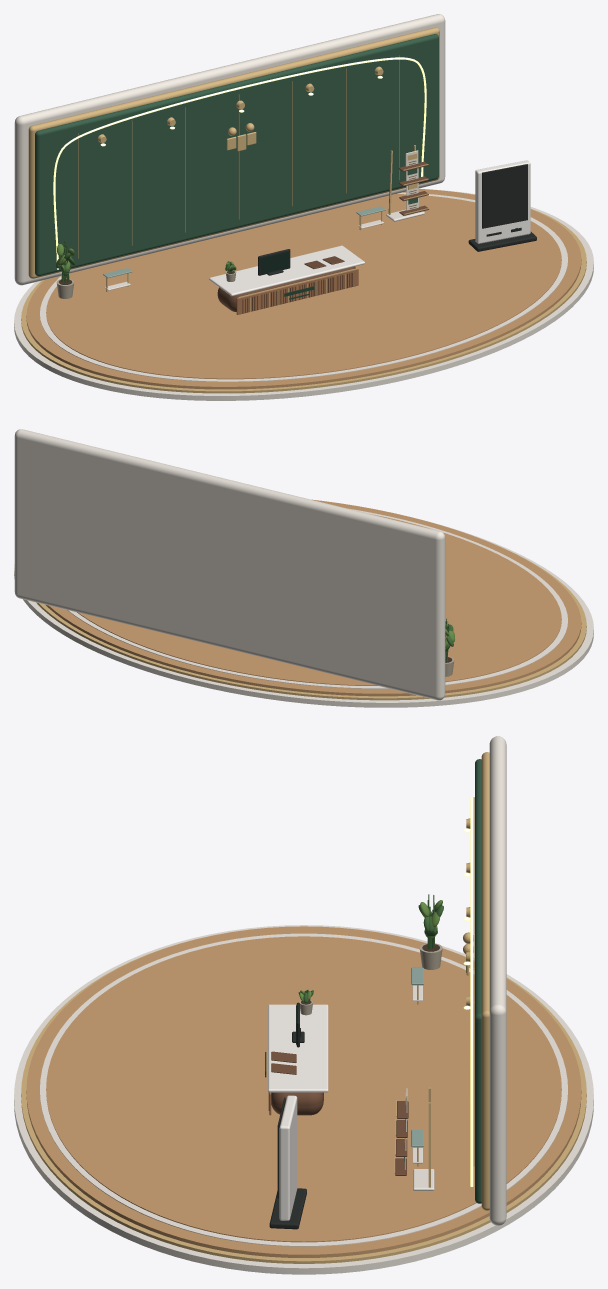
File: recruitment-center.glb
3 renders of one model, top to bottom at view 1: azimuth 30°, elevation 25°; view 2: azimuth 150°, elevation 25°; view 3: azimuth 270°, elevation 25°, orthographic. The views are drawn at different scales.
Visible parts, largest first — view 1: Platform_Oak_Center, Backwall_Green_Inset, Backwall_Outer_Frame, Walkable_Oak_Platform, Ground_RecruitmentCenter, Backwall_Brass_Reveal, Platform_Champagne_Rim, Platform_Stone_Inlay, Desk_Stone_Top, Kiosk_Screen_Frame, Desk_Front_Inset, Backwall_Warm_LED_Arch (+3 smaller); view 2: Backwall_Outer_Frame, Platform_Oak_Center, Walkable_Oak_Platform, Ground_RecruitmentCenter, Platform_Champagne_Rim, Platform_Stone_Inlay; view 3: Platform_Oak_Center, Walkable_Oak_Platform, Ground_RecruitmentCenter, Backwall_Outer_Frame, Platform_Stone_Inlay, Platform_Champagne_Rim, Desk_Stone_Top, Backwall_Brass_Reveal, Backwall_Green_Inset, Kiosk_Body, Backwall_Warm_LED_Arch, Desk_Body (+1 smaller).
Part boxes in pixels (left/top/right/bottom): Platform_Oak_Center: left=46, top=194, right=561, bottom=379; Backwall_Green_Inset: left=35, top=34, right=438, bottom=276; Backwall_Outer_Frame: left=14, top=14, right=445, bottom=285; Walkable_Oak_Platform: left=26, top=189, right=581, bottom=389; Ground_RecruitmentCenter: left=14, top=188, right=593, bottom=400; Backwall_Brass_Reveal: left=28, top=27, right=439, bottom=278; Platform_Champagne_Rim: left=21, top=209, right=586, bottom=393; Platform_Stone_Inlay: left=40, top=192, right=567, bottom=381; Desk_Stone_Top: left=209, top=245, right=364, bottom=296; Kiosk_Screen_Frame: left=482, top=164, right=527, bottom=228; Desk_Front_Inset: left=236, top=269, right=358, bottom=314; Backwall_Warm_LED_Arch: left=53, top=57, right=426, bottom=269; Backwall_Outer_Frame: left=14, top=429, right=445, bottom=700; Platform_Oak_Center: left=77, top=514, right=561, bottom=685; Walkable_Oak_Platform: left=46, top=499, right=581, bottom=696; Ground_RecruitmentCenter: left=14, top=521, right=593, bottom=707; Platform_Champagne_Rim: left=36, top=548, right=586, bottom=700; Platform_Stone_Inlay: left=67, top=509, right=567, bottom=688; Platform_Oak_Center: left=46, top=936, right=561, bottom=1242; Walkable_Oak_Platform: left=26, top=926, right=581, bottom=1257; Ground_RecruitmentCenter: left=14, top=925, right=593, bottom=1274; Backwall_Outer_Frame: left=489, top=736, right=506, bottom=1225; Platform_Stone_Inlay: left=40, top=933, right=567, bottom=1246; Platform_Champagne_Rim: left=21, top=939, right=586, bottom=1263; Desk_Stone_Top: left=268, top=1004, right=328, bottom=1092; Backwall_Brass_Reveal: left=481, top=752, right=489, bottom=1210; Backwall_Green_Inset: left=475, top=759, right=481, bottom=1203; Kiosk_Body: left=279, top=1095, right=297, bottom=1220; Backwall_Warm_LED_Arch: left=470, top=797, right=473, bottom=1186; Desk_Body: left=271, top=1092, right=323, bottom=1115.
Size of the model in its own units: 18.2 by 5.75 by 13.
